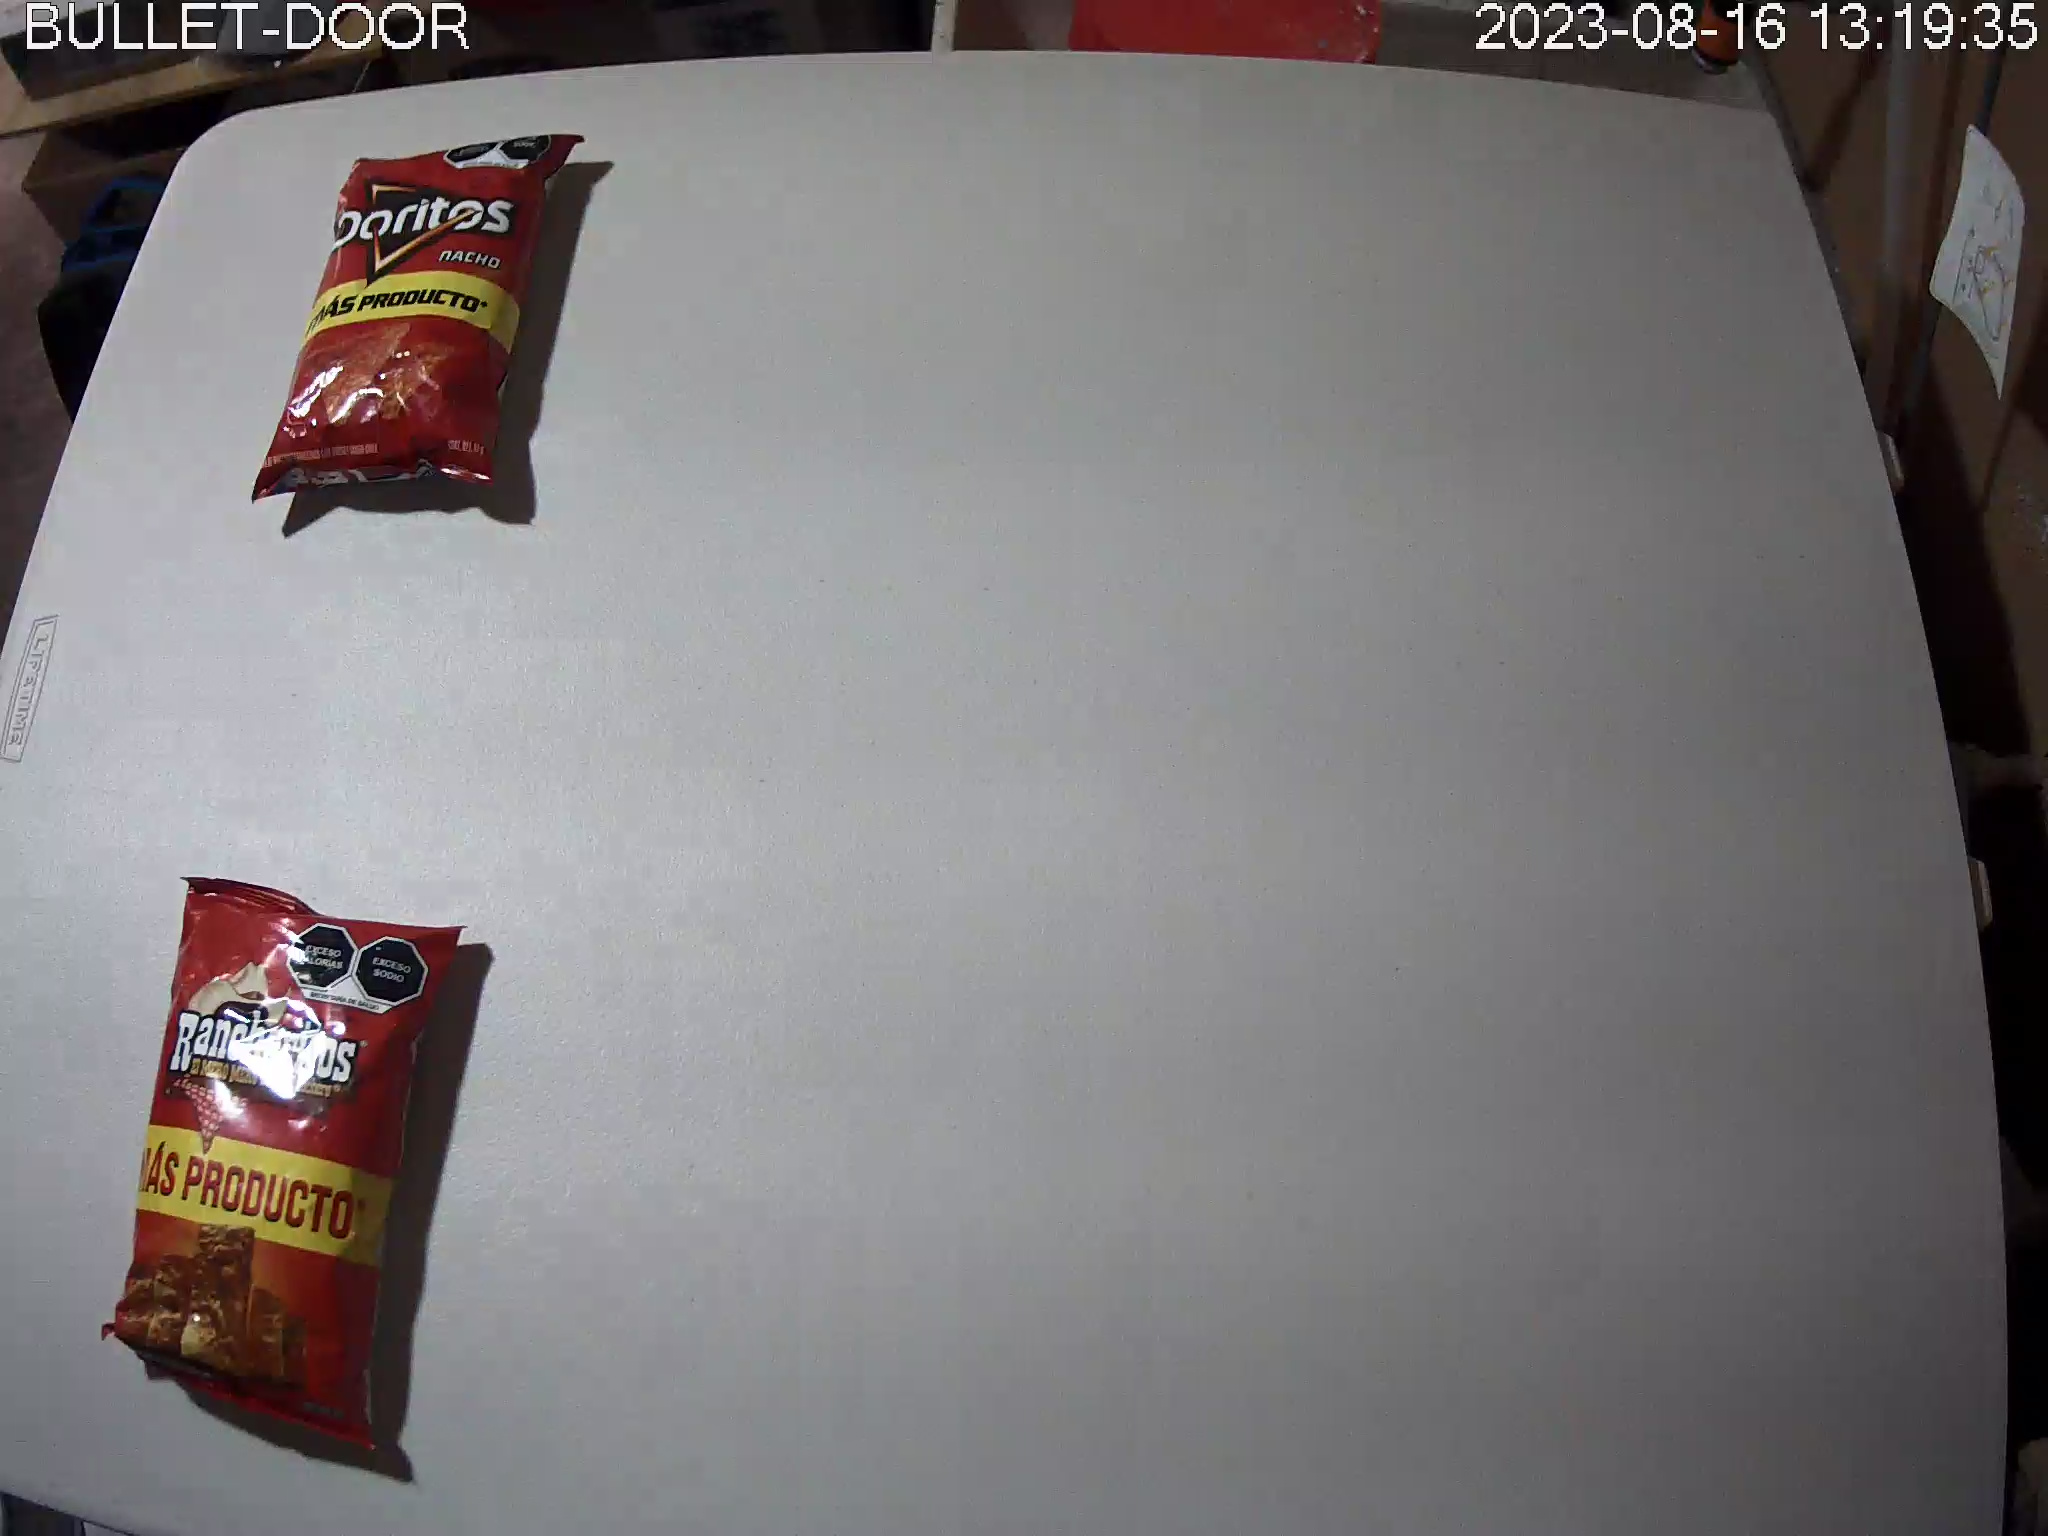DoritosN_61_F: (252, 131, 584, 507)
Rancheritos_58_F: (103, 873, 469, 1457)
